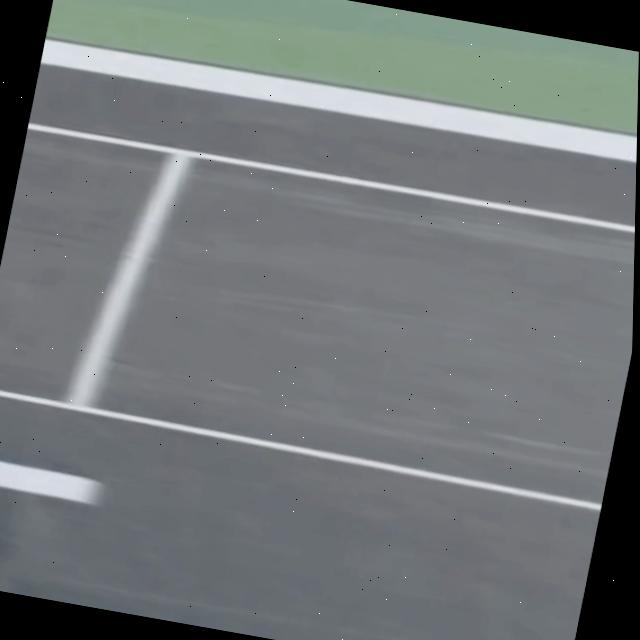center: (0, 461, 99, 503)
right: (39, 38, 637, 163)
